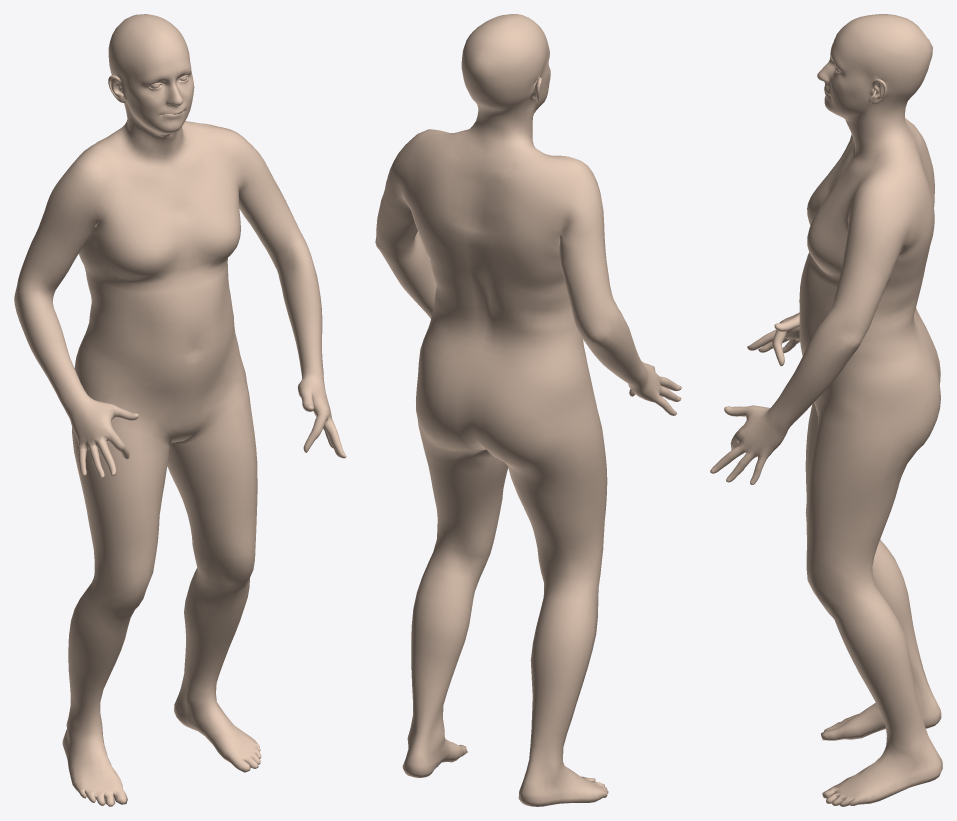
Rendered from WORD-00842.glb.
3 views of the same model, side by side, from view 1: azimuth 30°, elevation 25°; view 2: azimuth 150°, elevation 25°; view 3: azimuth 270°, elevation 25° (orthographic). The views are drawn at different scales.
Size of the model in its own units: 0.6294 by 1.72 by 0.4827.
